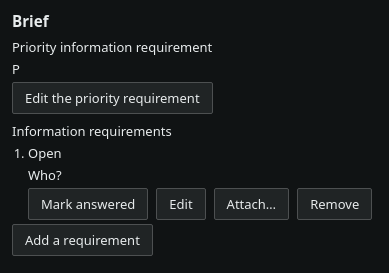
Test case: CaseBrief › lets the Author mark a requirement answered and reopen it, each by the status route alone
The image size is (389, 273).
Click the button with aria-label "Mark requirement 1 answered".
click(88, 204)  # box [28,188,148,220]
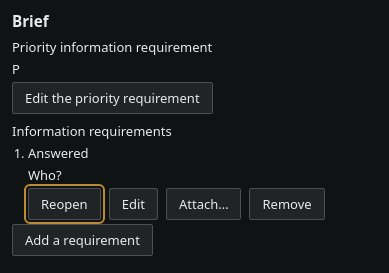
Expected: the text "Answered" is shown, [28,144,89,162]
Click the button with aria-label "Reopen requirement 1".
click(64, 204)  # box [28,188,101,220]
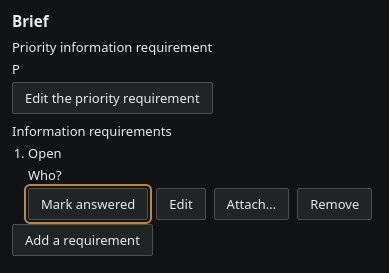
Expected: the text "Open" is shown, [28,144,62,162]
